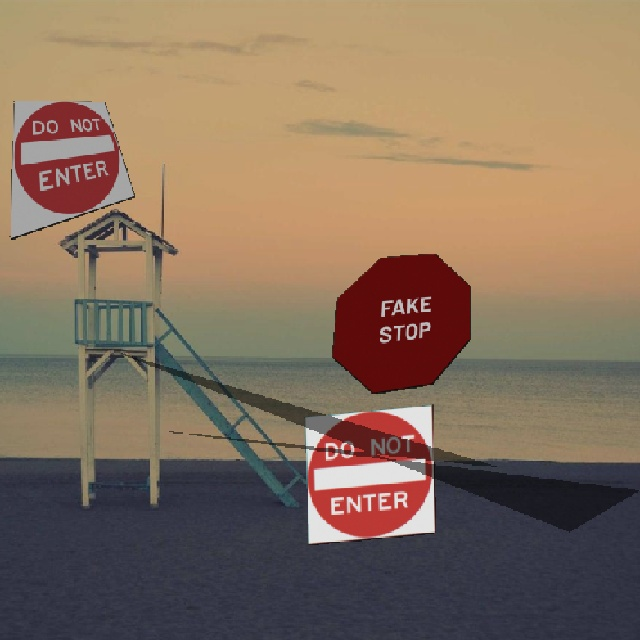DO_NOT_ENTER: (303, 403, 435, 544), (8, 98, 134, 239)
FAKE_STOP: (330, 252, 470, 393)
